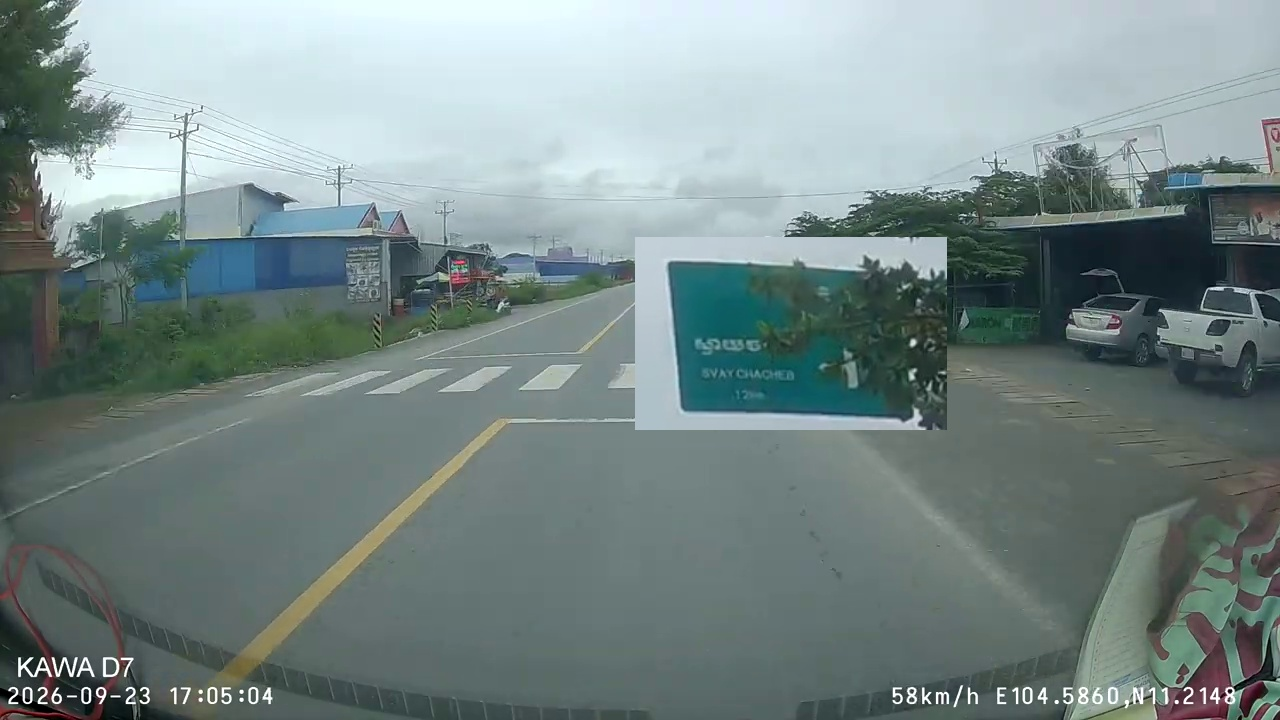direction_sign: (635, 237, 947, 430)
